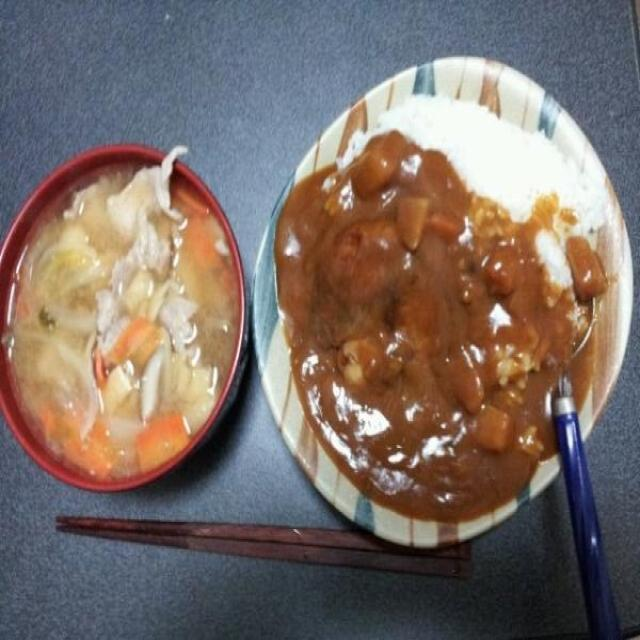Beef Curry: (285, 167, 575, 530)
